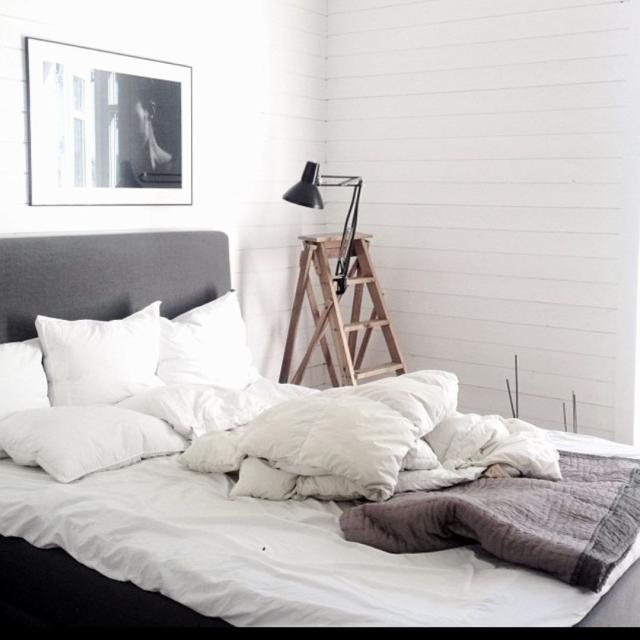bed: (1, 286, 640, 640)
